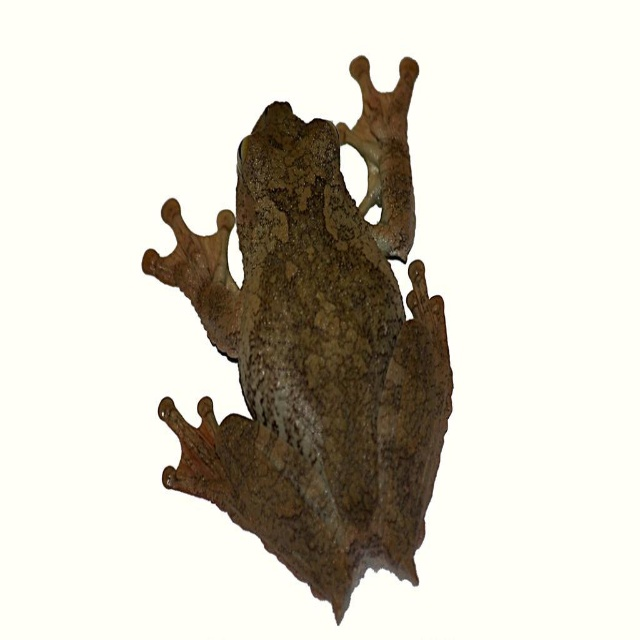Frog: (138, 55, 454, 626)
